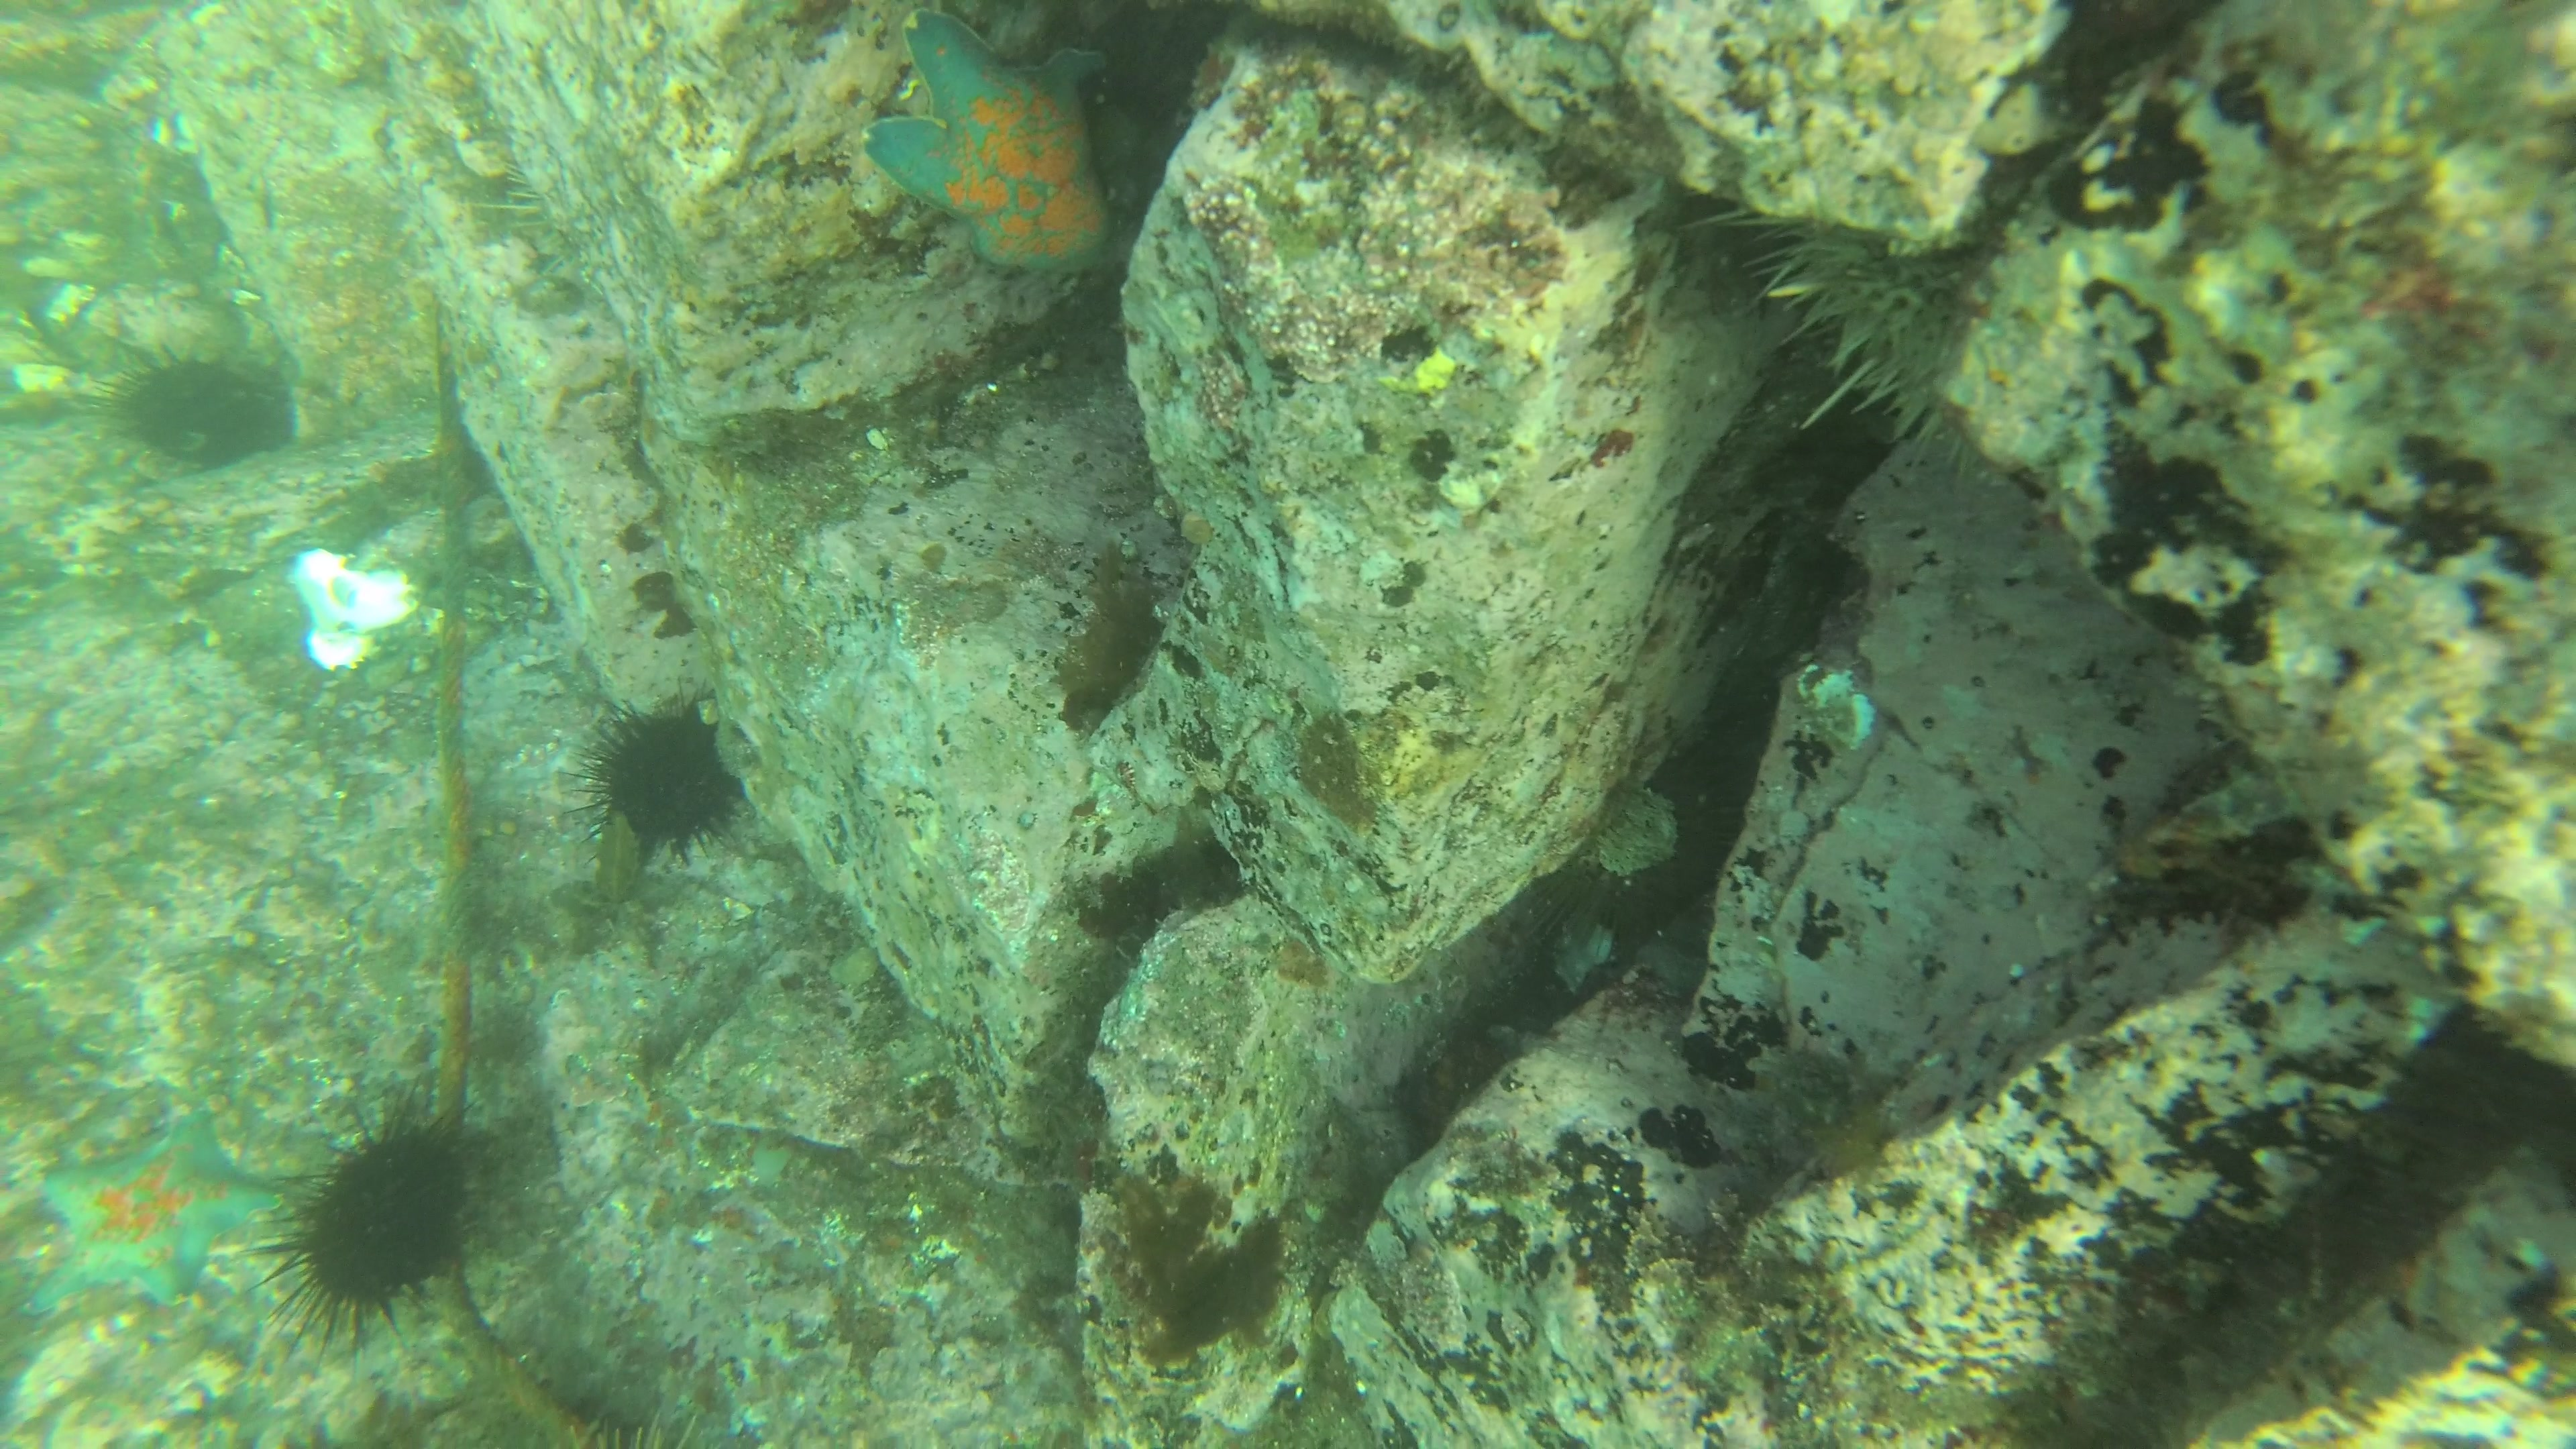echinus: (1711, 186, 2051, 490), (274, 1099, 488, 1338), (571, 690, 759, 853), (88, 338, 294, 481)
starfish: (853, 4, 1139, 288), (35, 1113, 280, 1327)
